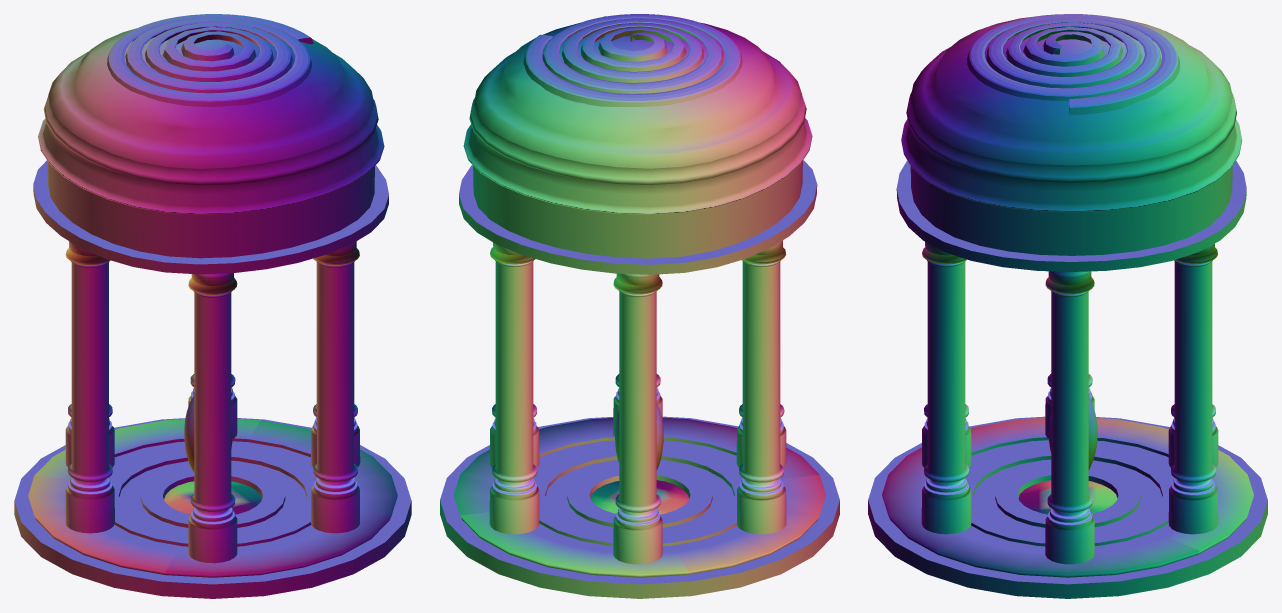
File: teleporttrap1.fbx
3 renders of one model, left to right at view 1: azimuth 30°, elevation 25°; view 2: azimuth 150°, elevation 25°; view 3: azimuth 270°, elevation 25°, orthographic.
Parts seen in each view (by area): view 1: pCube6, pCube8, pHelix4, polySurface34, polySurface32, polySurface36, polySurface31, pSphere1, polySurface35; view 2: pCube6, pCube8, pHelix4, polySurface35, polySurface33, polySurface32, polySurface34, polySurface31, pSphere1; view 3: pCube6, pCube8, pHelix4, polySurface31, polySurface36, polySurface33, polySurface35, polySurface34, pSphere1.
Boxes of the visible parts, <box> form: pCube6: <box>33,28,388,274</box>; pCube8: <box>14,418,411,598</box>; pHelix4: <box>107,14,313,107</box>; polySurface34: <box>188,273,237,563</box>; polySurface32: <box>65,241,114,533</box>; polySurface36: <box>311,241,359,533</box>; polySurface31: <box>310,262,360,467</box>; pSphere1: <box>184,395,232,472</box>; polySurface35: <box>65,404,114,467</box>; pCube6: <box>459,16,817,274</box>; pCube8: <box>440,416,839,598</box>; pHelix4: <box>523,14,742,106</box>; polySurface35: <box>613,273,662,564</box>; polySurface33: <box>489,242,539,534</box>; polySurface32: <box>737,240,786,534</box>; polySurface34: <box>736,261,786,467</box>; polySurface31: <box>490,404,539,467</box>; pSphere1: <box>615,403,663,469</box>; pCube6: <box>896,15,1246,271</box>; pCube8: <box>868,416,1267,598</box>; pHelix4: <box>967,14,1180,115</box>; polySurface31: <box>1045,271,1094,564</box>; polySurface36: <box>921,241,971,534</box>; polySurface33: <box>1168,243,1218,534</box>; polySurface35: <box>1168,404,1218,467</box>; polySurface34: <box>922,404,971,467</box>; pSphere1: <box>1048,396,1097,469</box>.
Size of the model in its own units: 6.1 by 7.98 by 6.1.
